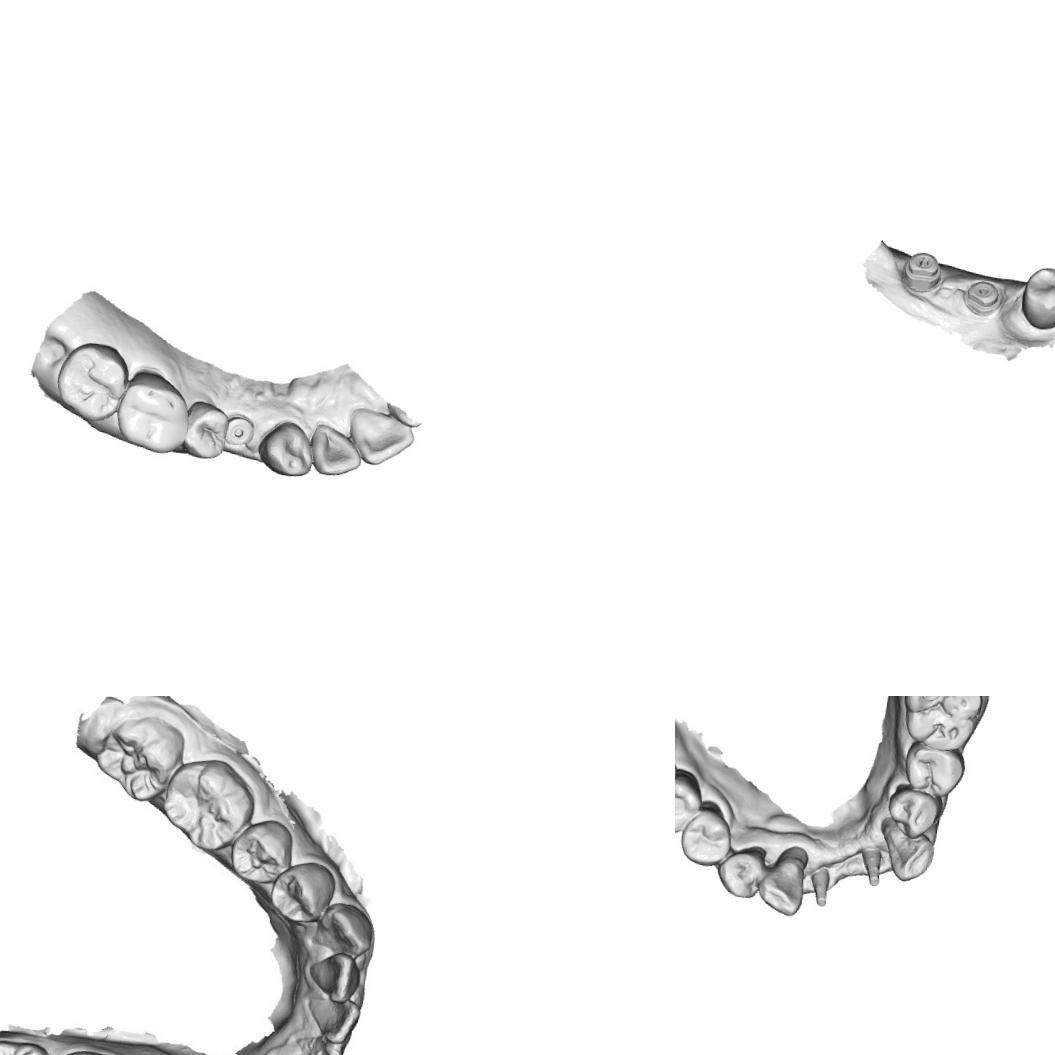abutment: (854, 844, 888, 890), (806, 863, 834, 908)
canine: (874, 815, 940, 885), (754, 842, 812, 918), (254, 417, 316, 480), (318, 895, 371, 956)
implant: (959, 276, 1005, 318), (222, 412, 256, 447)
implant_minus: (898, 248, 944, 296)
incisor: (345, 404, 419, 472), (308, 421, 367, 480), (308, 948, 366, 1008), (305, 994, 365, 1046), (296, 1030, 350, 1055)
molar: (158, 760, 252, 850), (97, 713, 187, 800), (110, 368, 194, 456), (52, 336, 134, 423), (897, 696, 988, 757), (675, 764, 706, 836)
premolar: (230, 816, 292, 886), (900, 740, 970, 800), (270, 861, 333, 926), (678, 805, 735, 870), (713, 838, 770, 900), (179, 398, 232, 463), (884, 785, 944, 842), (1016, 262, 1055, 334)
